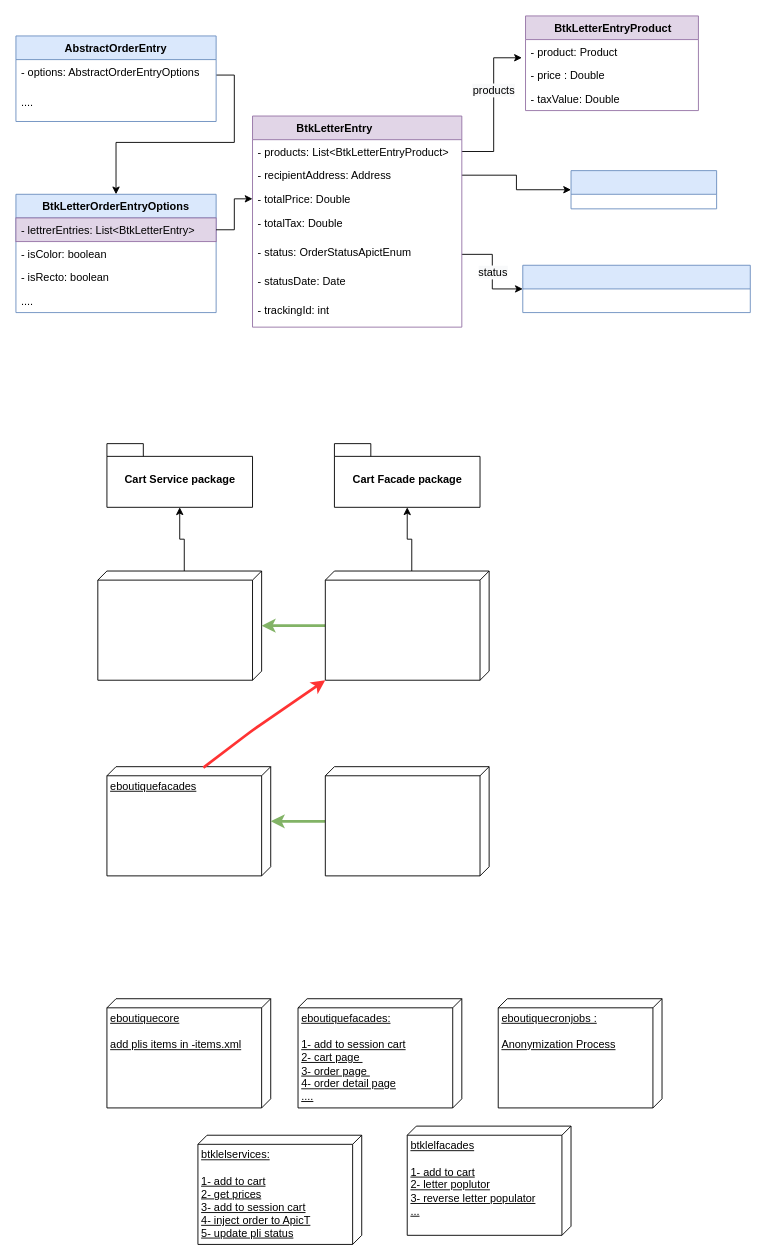
Image size: 766x1260. Some labels were removed from this diagram. Here are the shapes that lost their labels. From the top down, the centre of each, then its label:
At point (643, 189): "Address".
At point (636, 288): "OrderStatusApictEnum".
At point (179, 625): "btklelservices".
At point (406, 625): "btklelfacades".
At point (406, 821): "eboutiquestorefront".
